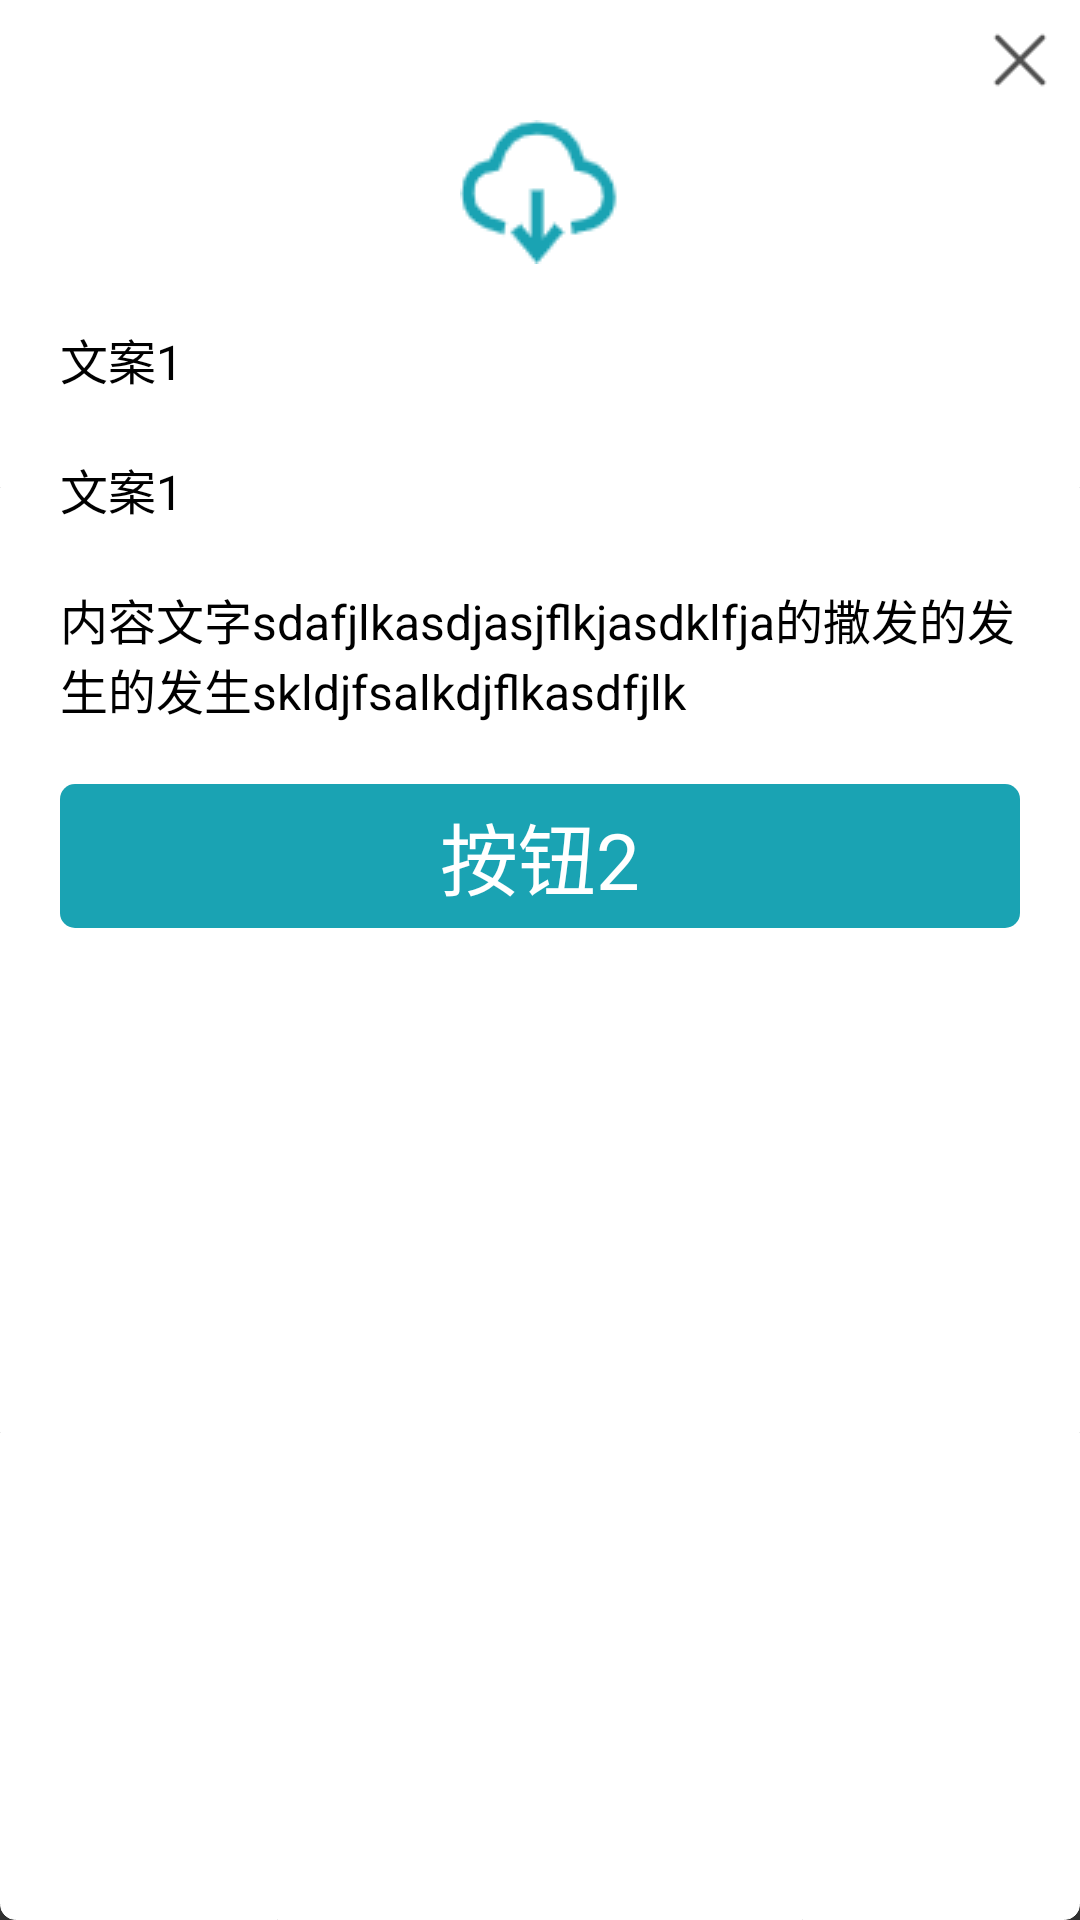

Locate icon controls on the screen. Image size 1080px x 1920px, boxes as (x1,y1,x2,y2).
closeb: (994,34,1046,86)
download: (460,120,617,264)
